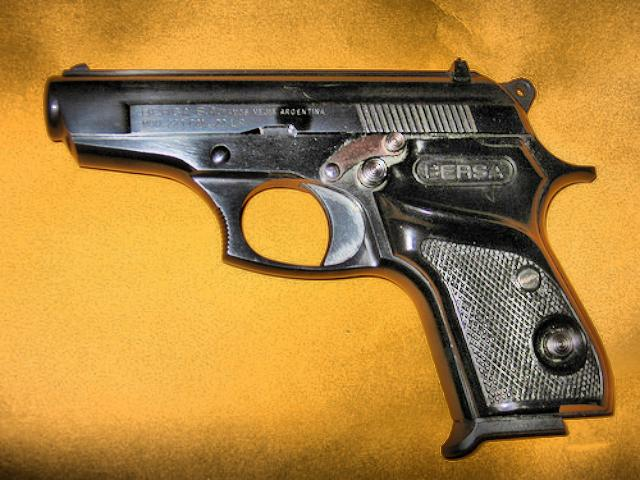pistol: (42, 56, 610, 460)
